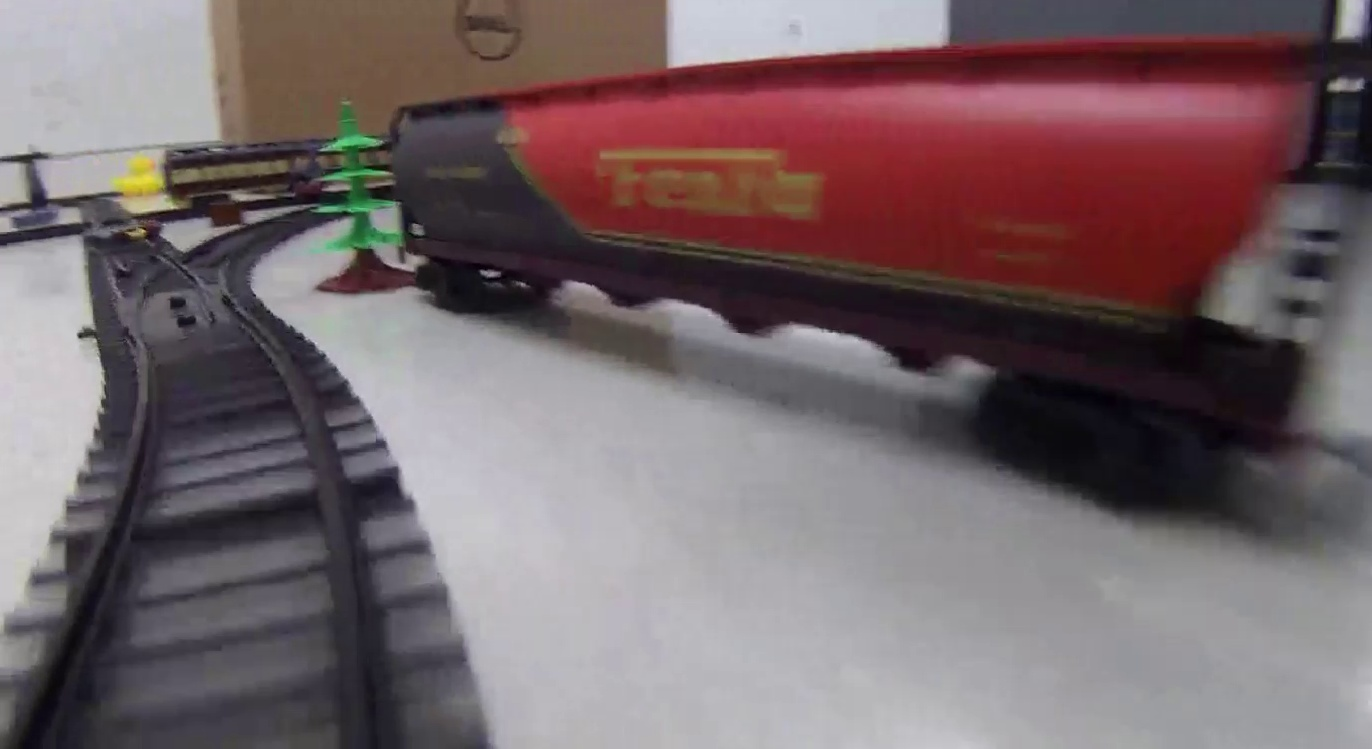tree: (312, 102, 393, 297)
